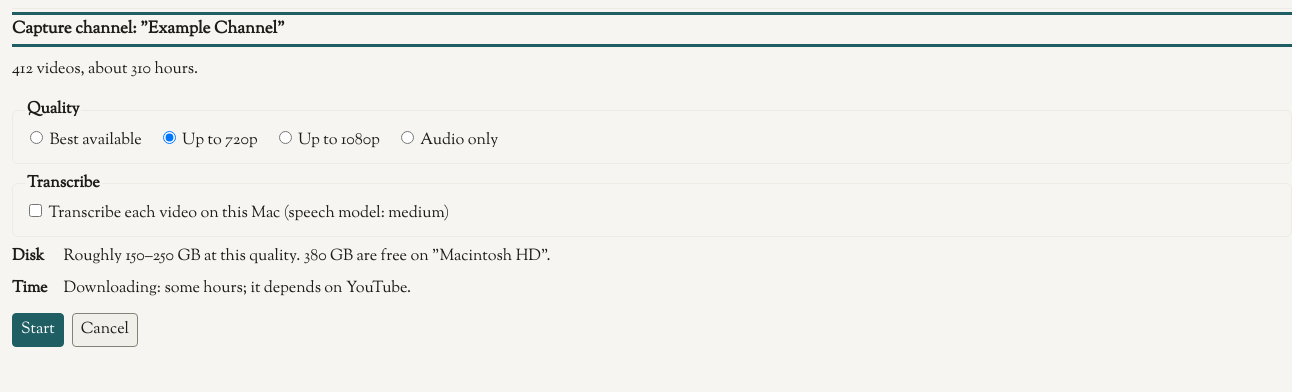
CaptureEstimate › the time lines read "Downloading: some hours; it depends on YouTube." and the unmeasured transcribing sentence
Expected: the text "Downloading: some hours; it depends on YouTube." is shown, [64, 277, 411, 300]
What coordinates should you click on to do the following:
click the checkbox labelled "Transcribe each video on this Mac (speech model: medium)"
I would click on:
 (36, 211)
Its box is [29, 204, 42, 217].
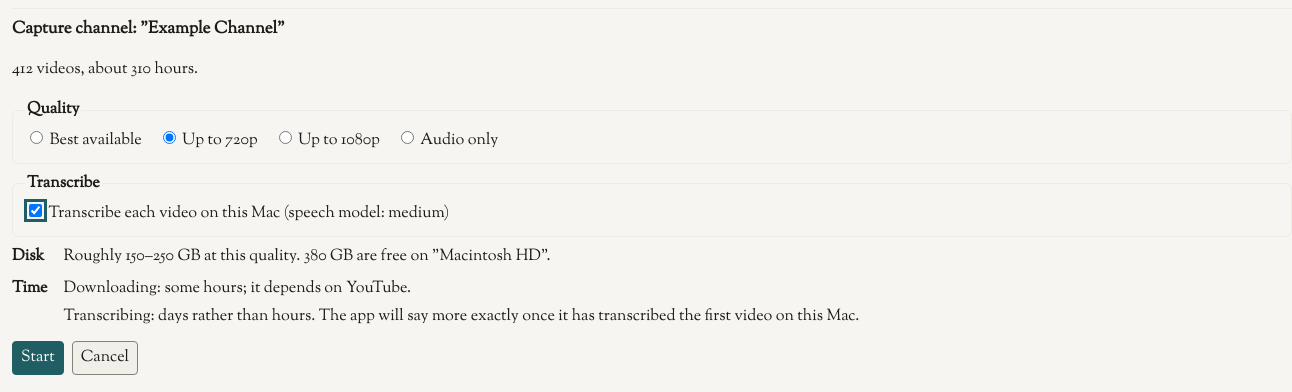
Expected: the text "Transcribing: days rather than hours. The app will say more exactly once it has transcribed the first video on this Mac." is shown, [64, 305, 859, 328]
